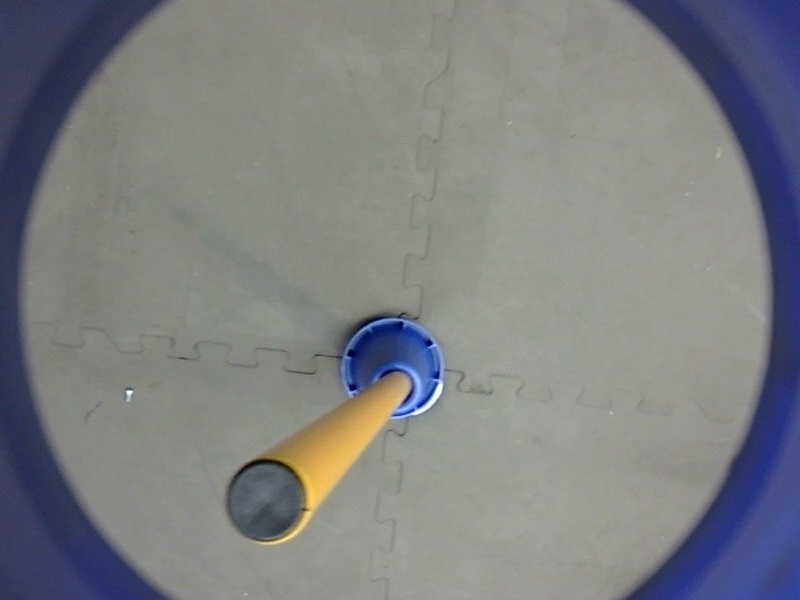tip: (220, 452, 318, 551)
